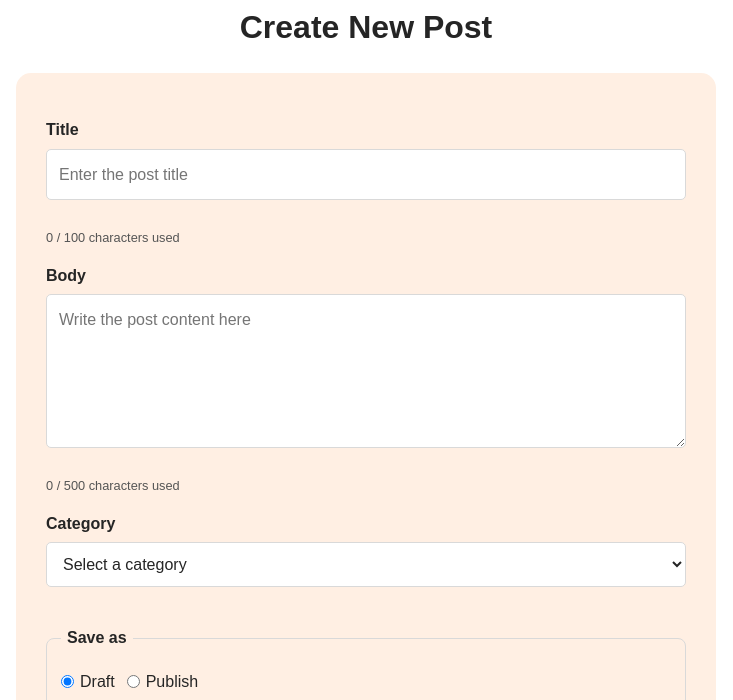
Test: CreatePostView - validation › shows a specific error when the title is too short
Type "Hi" into the field with id "title" at coordinates (366, 175), box [46,149,686,200]
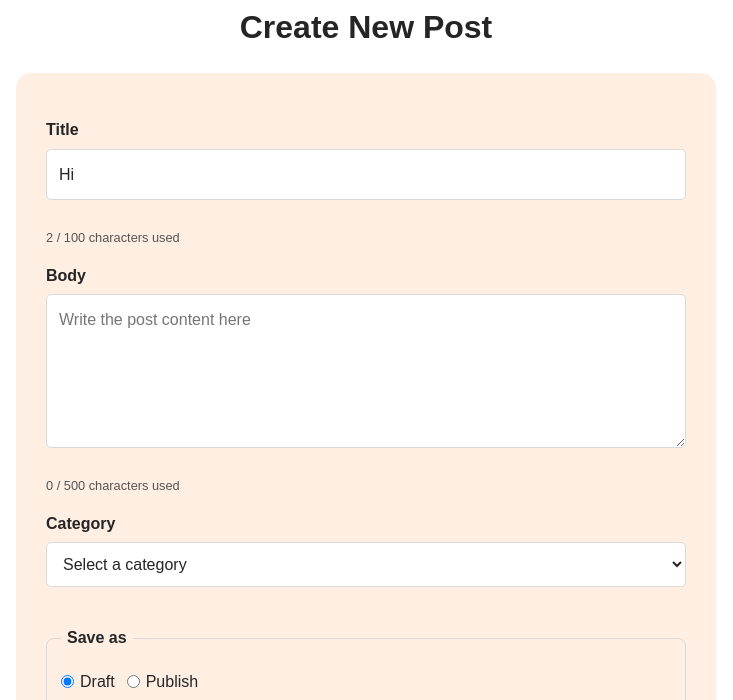
Leave the field with id "title", box [46,149,686,200]
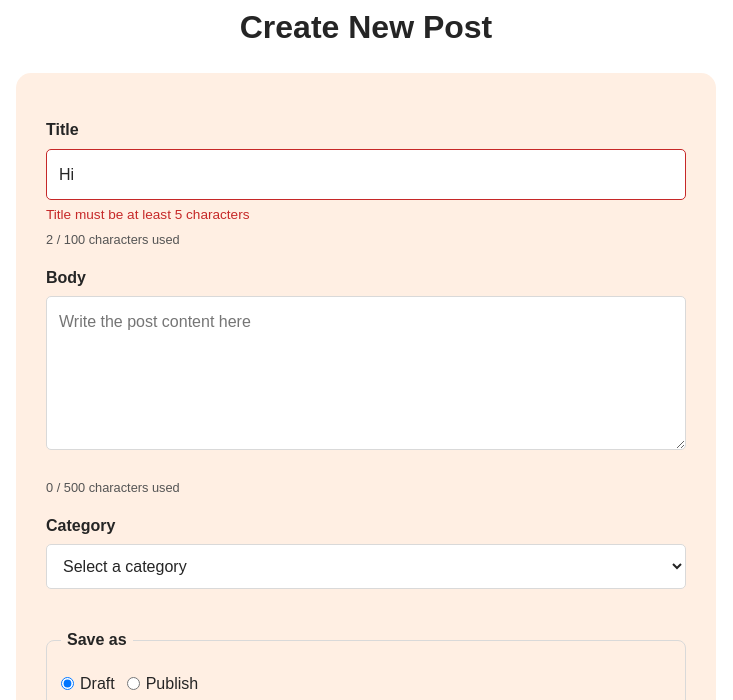
Now the text with id "title-error" reads "Title must be at least 5 characters", box [46,207,250,222]
